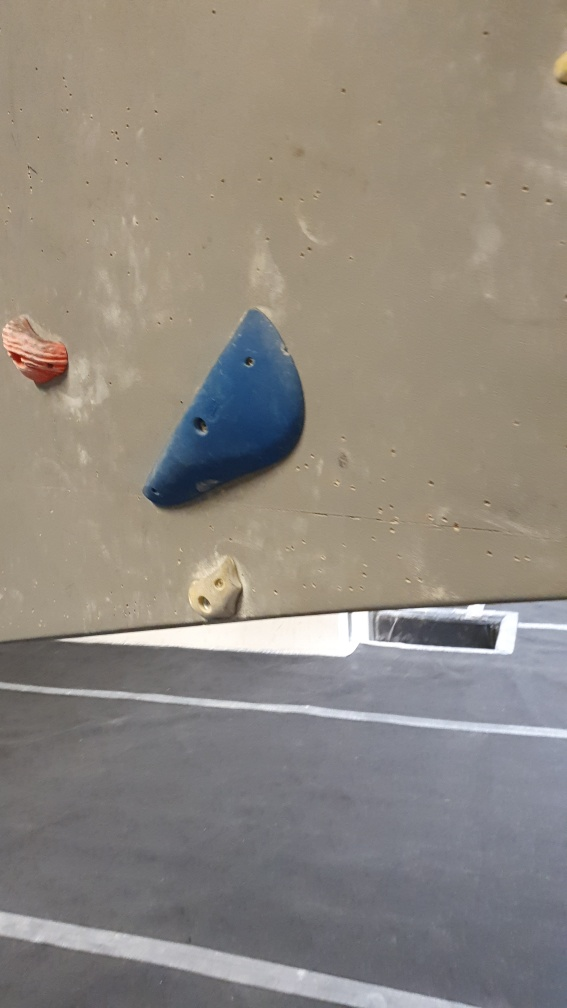Jug: (1, 313, 72, 389)
